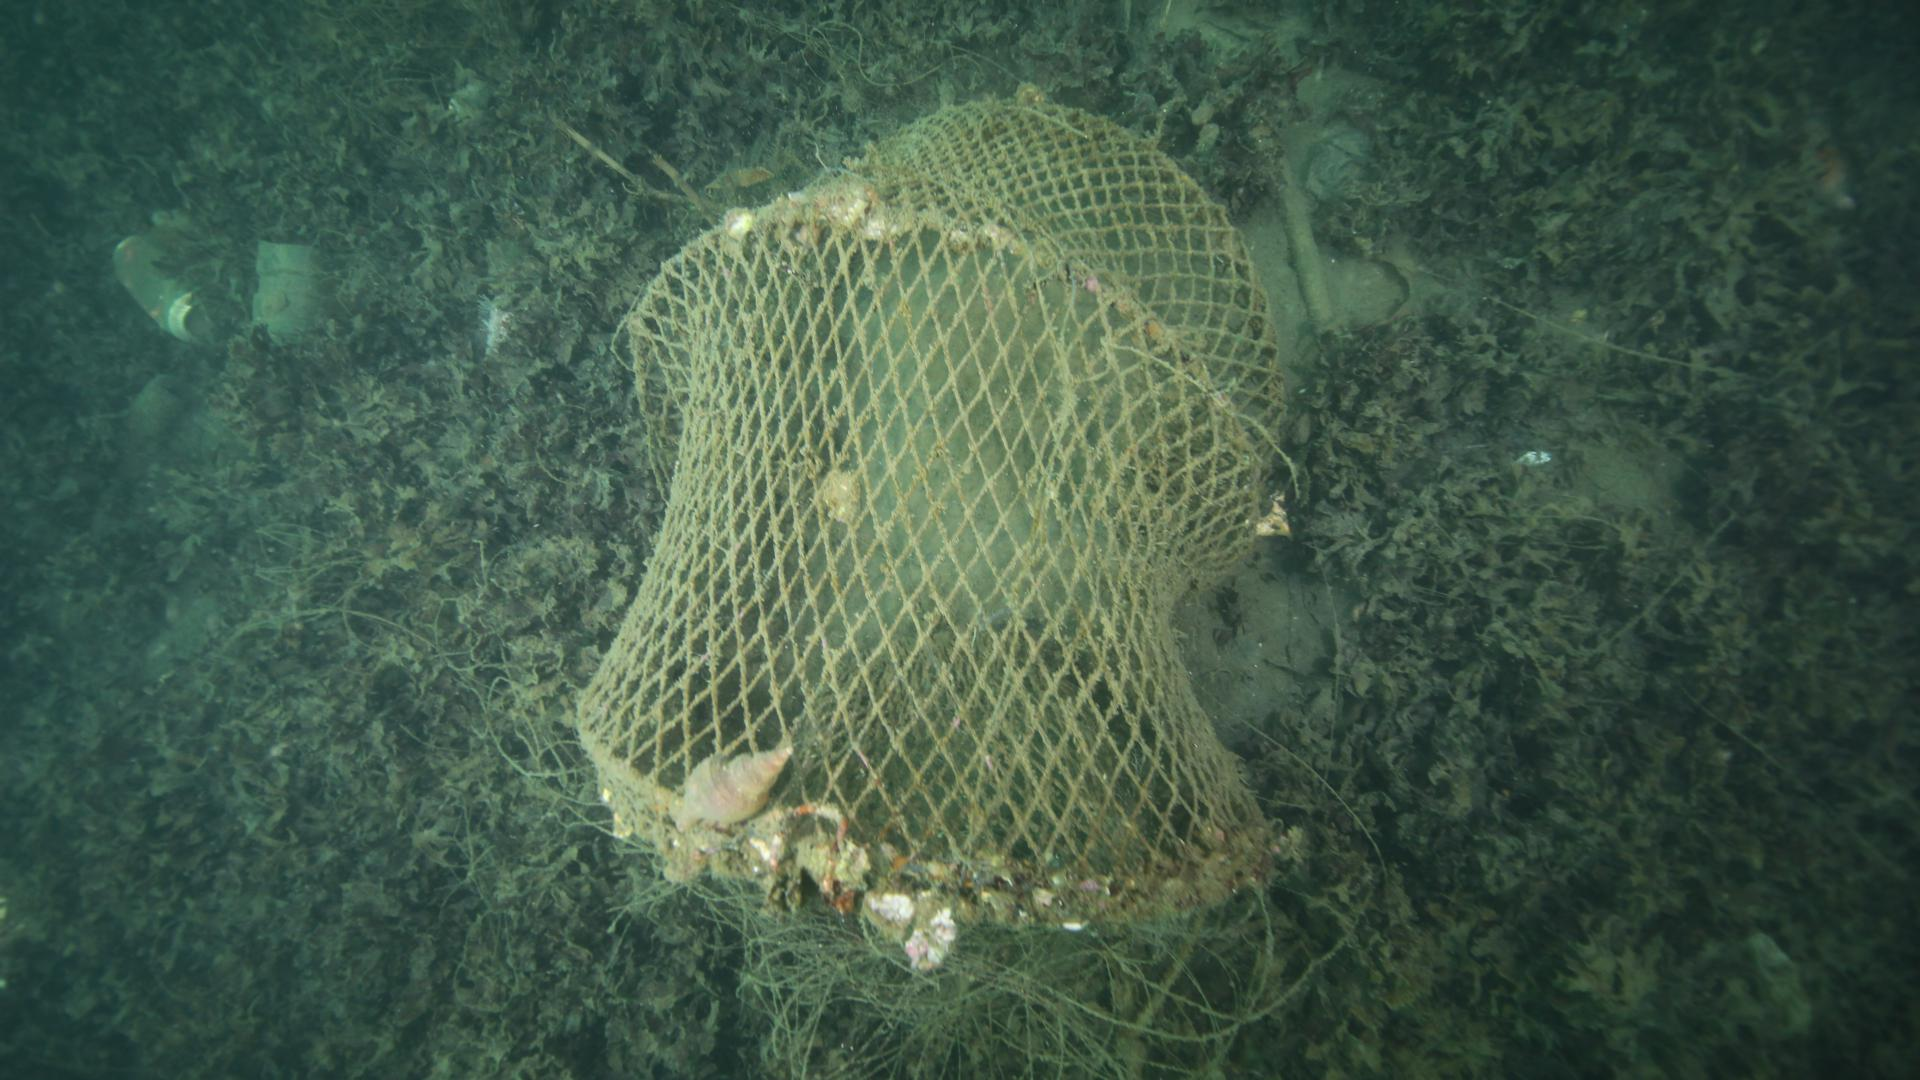spring fish trap: (562, 84, 1294, 971)
